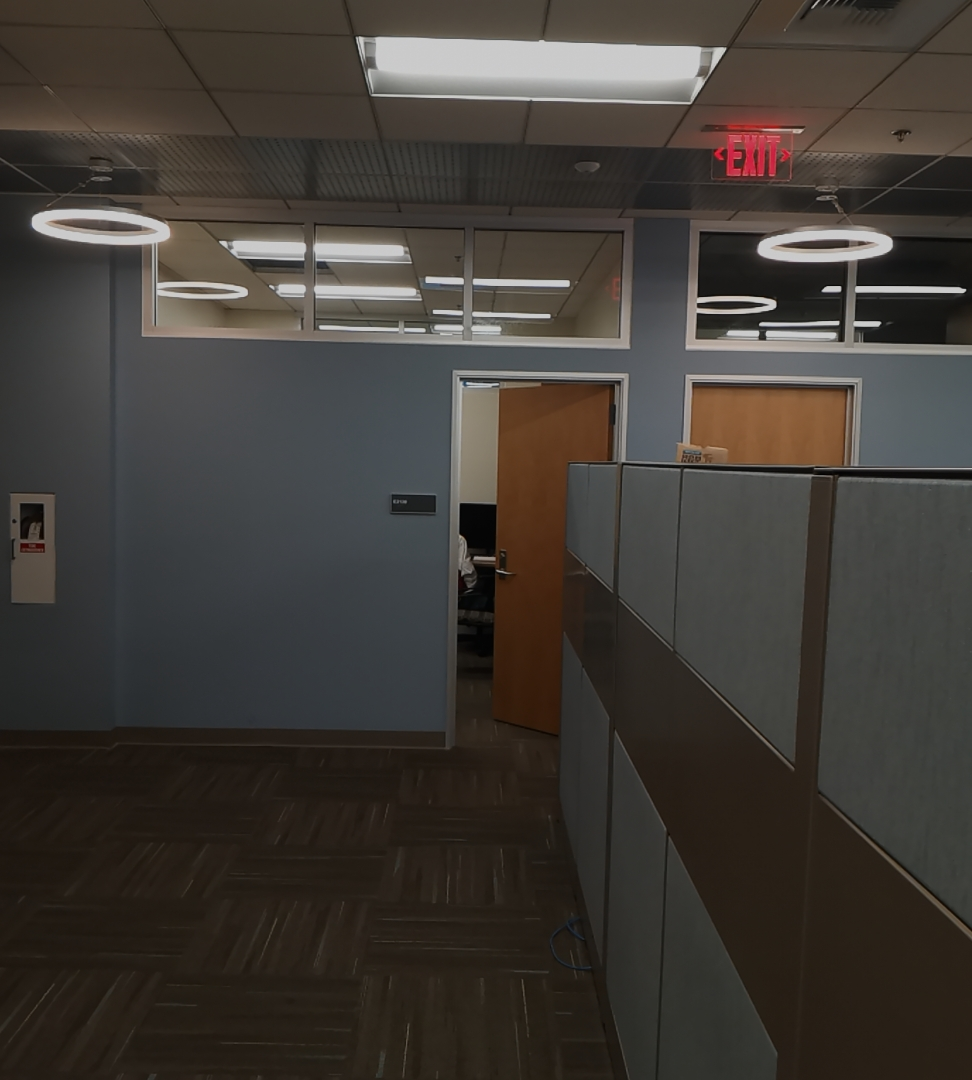emergency_exit: (704, 123, 803, 185)
